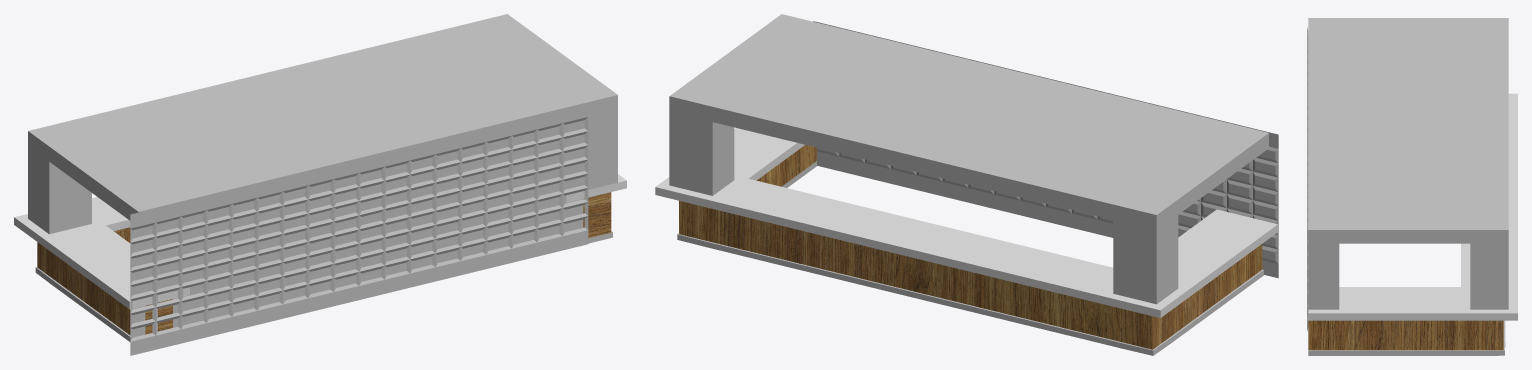
The model's file is Cafeteria.fbx.
3 views of the same model, side by side, from view 1: azimuth 30°, elevation 25°; view 2: azimuth 150°, elevation 25°; view 3: azimuth 270°, elevation 25° (orthographic). The views are drawn at different scales.
Visible parts, largest first — view 1: CafeteriaTop, Plane, CafeteriaBottom; view 2: CafeteriaTop, CafeteriaBottom, Plane; view 3: CafeteriaTop, CafeteriaBottom, Plane.
Boxes of the visible parts, x1,y1,x2,y2 form: CafeteriaTop: [14, 14, 626, 309]; Plane: [130, 103, 588, 355]; CafeteriaBottom: [35, 192, 612, 341]; CafeteriaTop: [655, 14, 1277, 317]; CafeteriaBottom: [677, 145, 1263, 355]; Plane: [813, 21, 1278, 278]; CafeteriaTop: [1308, 18, 1517, 320]; CafeteriaBottom: [1308, 320, 1505, 355]; Plane: [1307, 27, 1308, 331].
Size of the model in its own units: 10.66 by 4.32 by 2.9.
